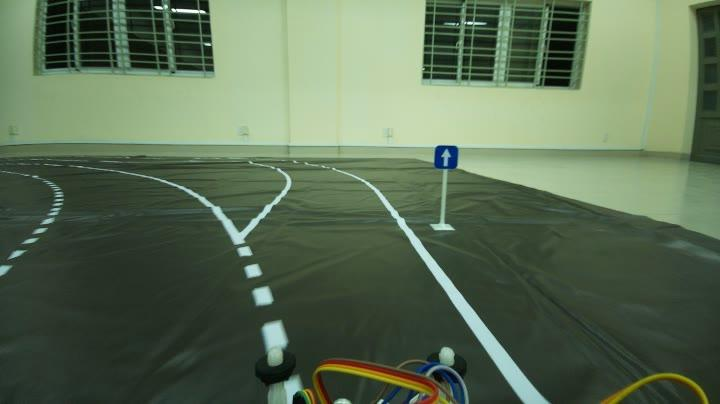onewayroad: (432, 143, 459, 172)
